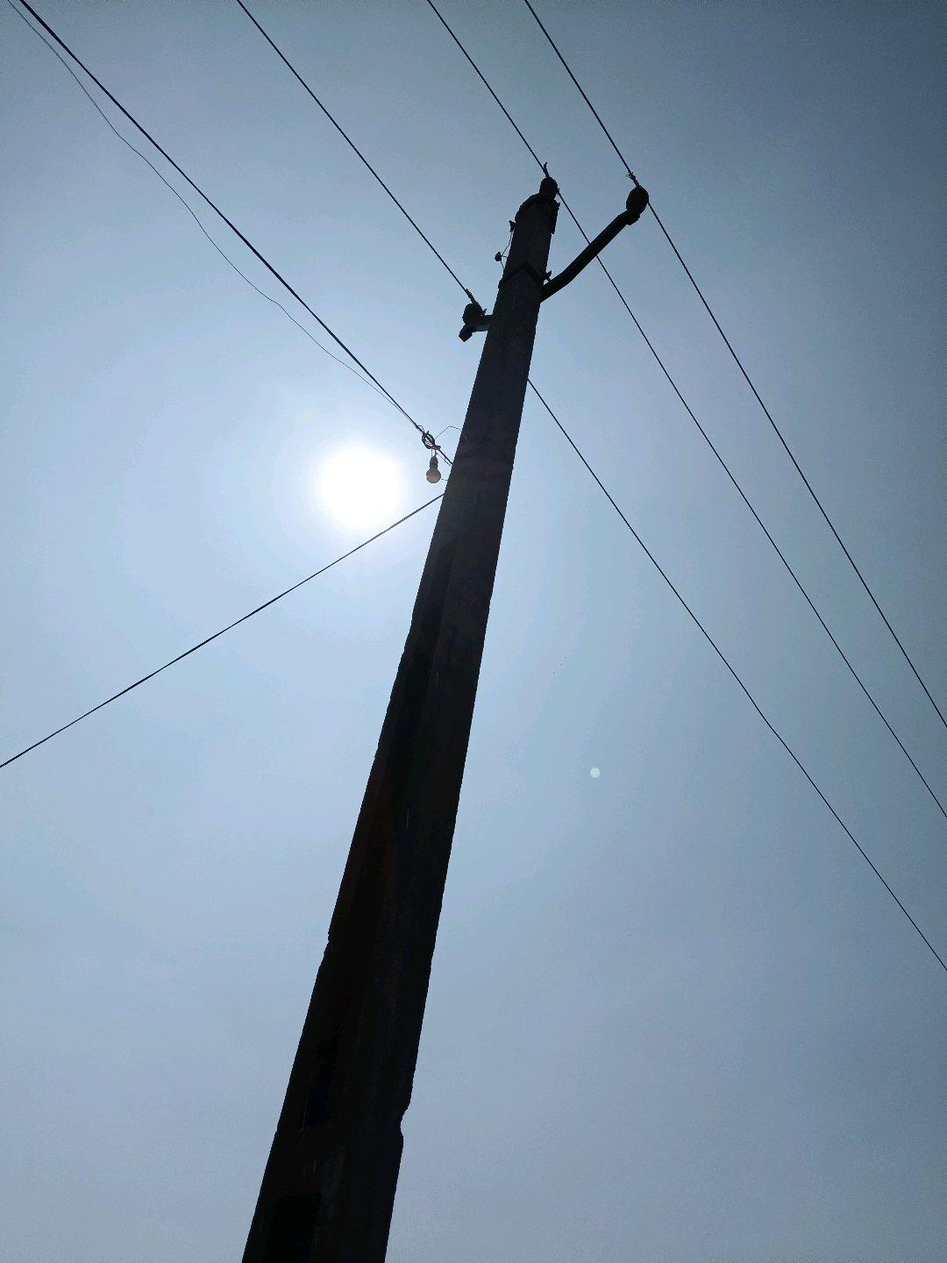{"0" "insulator", "1" "pole", "2" "crossarm", "3" "conductor", "4" "street_: (242, 179, 647, 1262), (463, 332, 465, 334)
